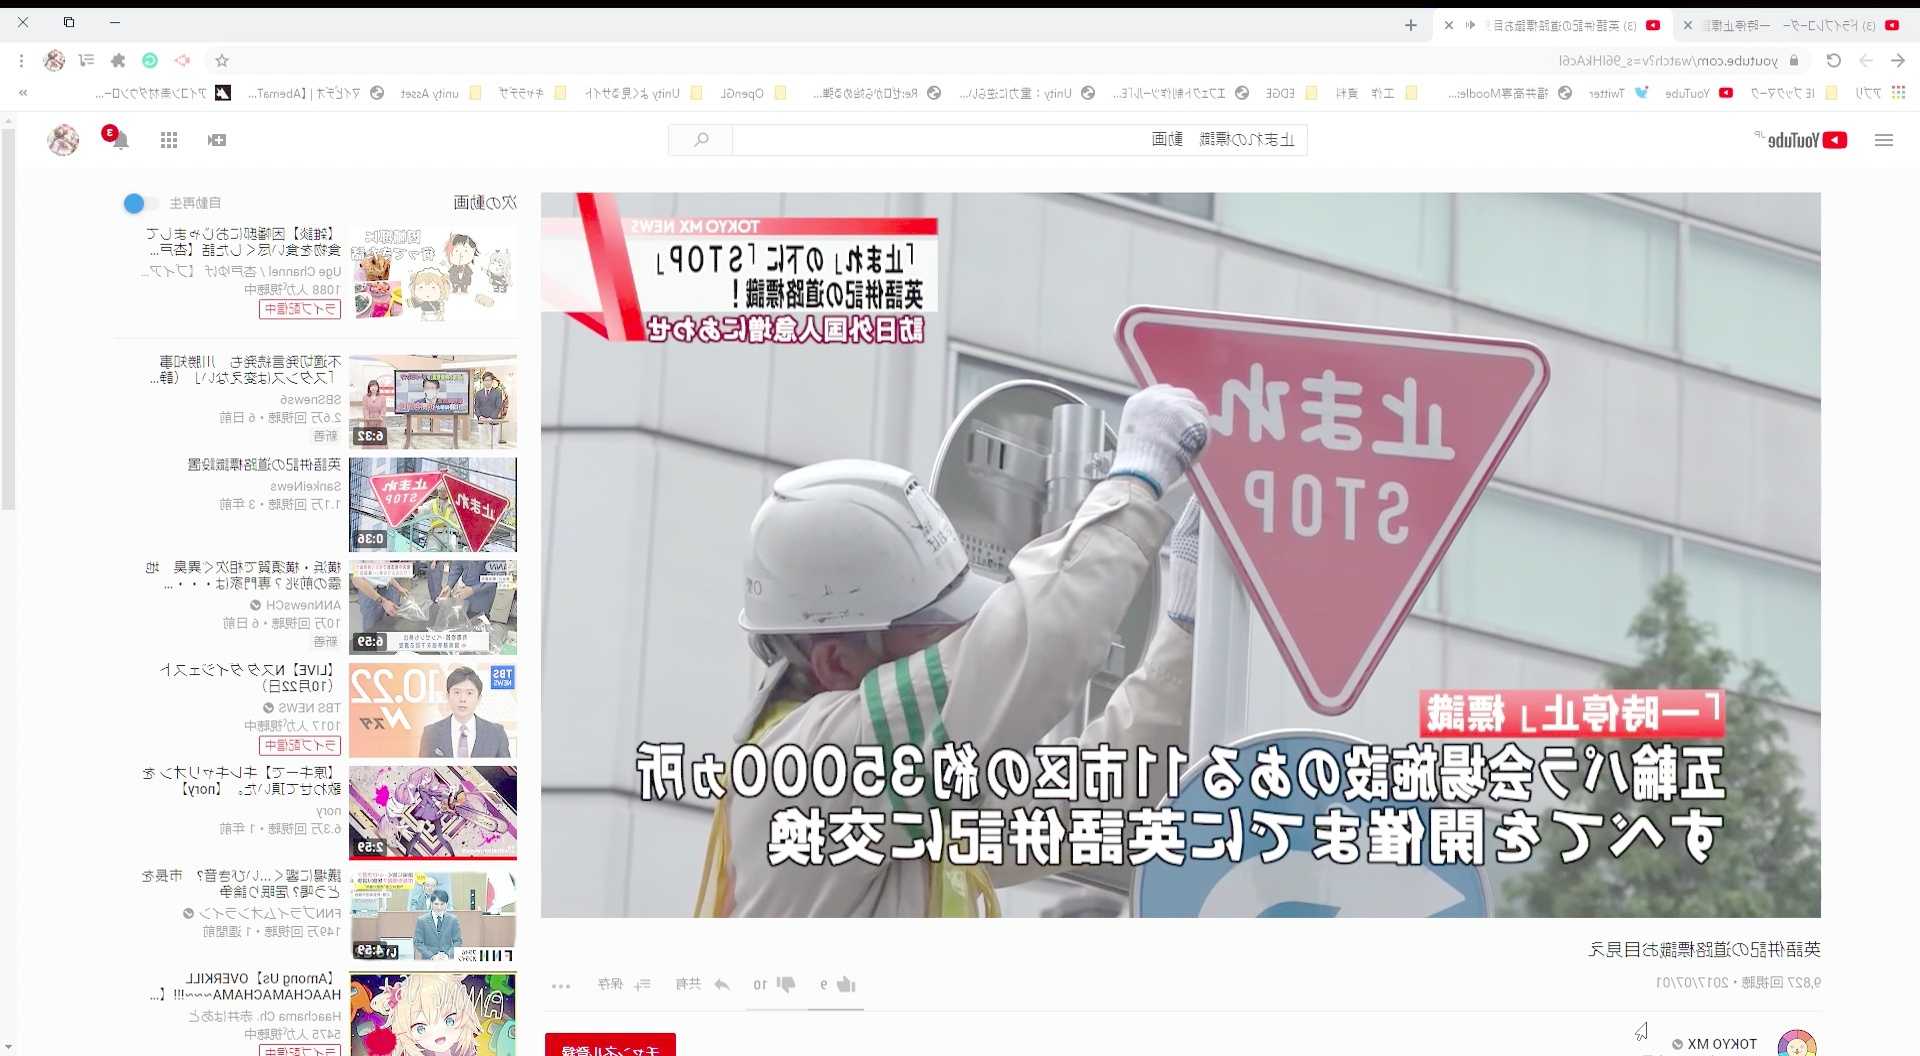Regulatory_sign_triangle: (1124, 285, 1550, 740)
